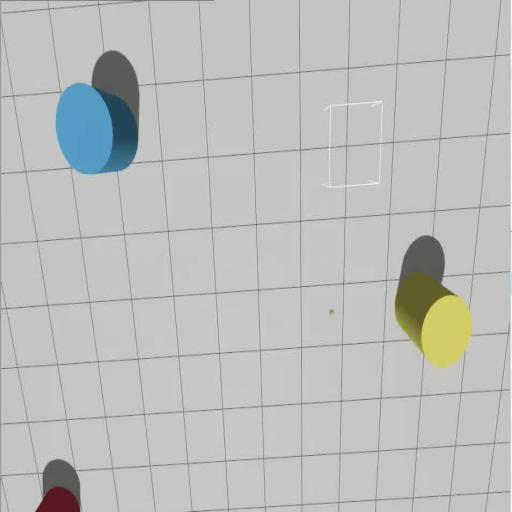cylinder: (56, 50, 138, 174), (395, 236, 472, 366)
